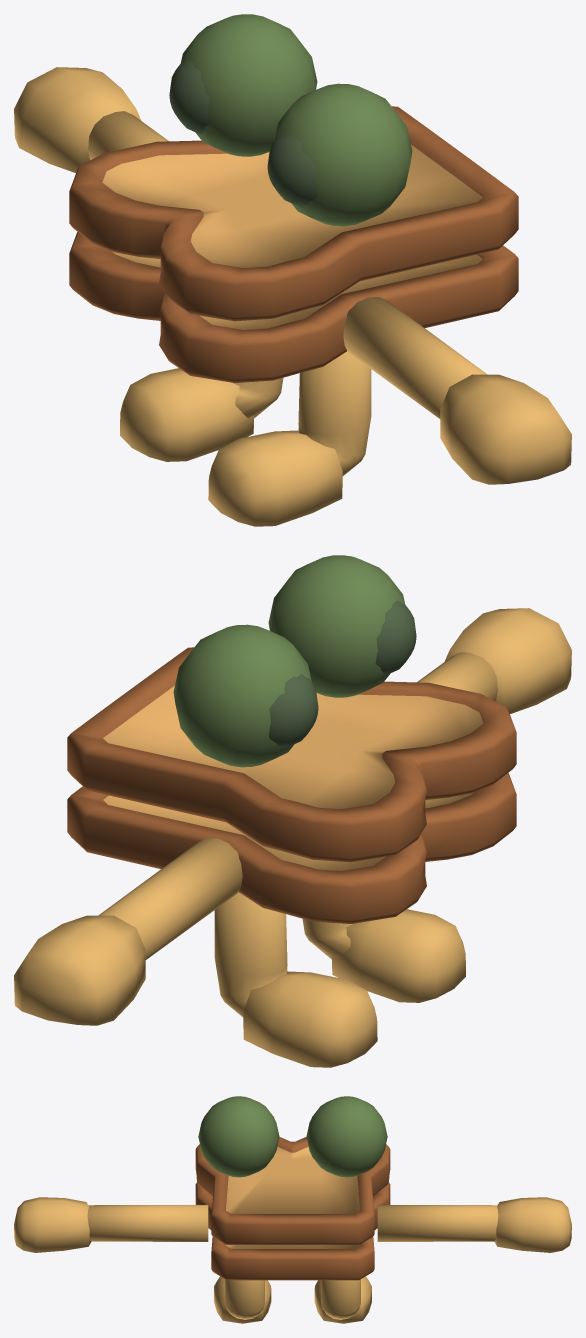
Rendered from Sandwich bitch.fbx.
The picture shows the model from 3 angles, top to bottom: view 1: azimuth 30°, elevation 25°; view 2: azimuth 150°, elevation 25°; view 3: azimuth 270°, elevation 25°; orthographic projection. The views are drawn at different scales.
Parts seen in each view (by area): view 1: Sandwich bottom.001, Sandwich top.001; view 2: Sandwich bottom.001, Sandwich top.001; view 3: Sandwich bottom.001, Sandwich top.001.
Boxes of the visible parts, x1=… form: Sandwich bottom.001: x1=14, y1=67, x2=571, y2=526; Sandwich top.001: x1=69, y1=14, x2=518, y2=321; Sandwich bottom.001: x1=14, y1=608, x2=571, y2=1067; Sandwich top.001: x1=67, y1=555, x2=516, y2=862; Sandwich bottom.001: x1=14, y1=1182, x2=571, y2=1323; Sandwich top.001: x1=195, y1=1096, x2=390, y2=1244.
Size of the model in its own units: 265 by 306 by 679.
